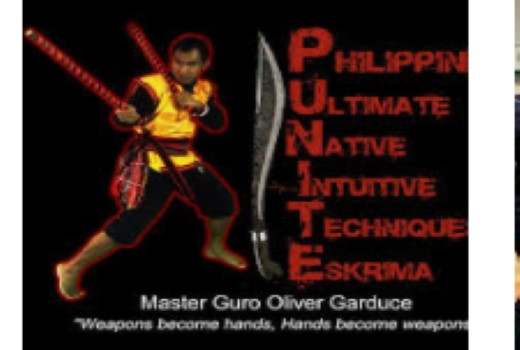baston_e: (35, 26, 119, 122), (138, 27, 173, 96)
baston_v: (14, 18, 39, 46), (123, 15, 139, 39)
